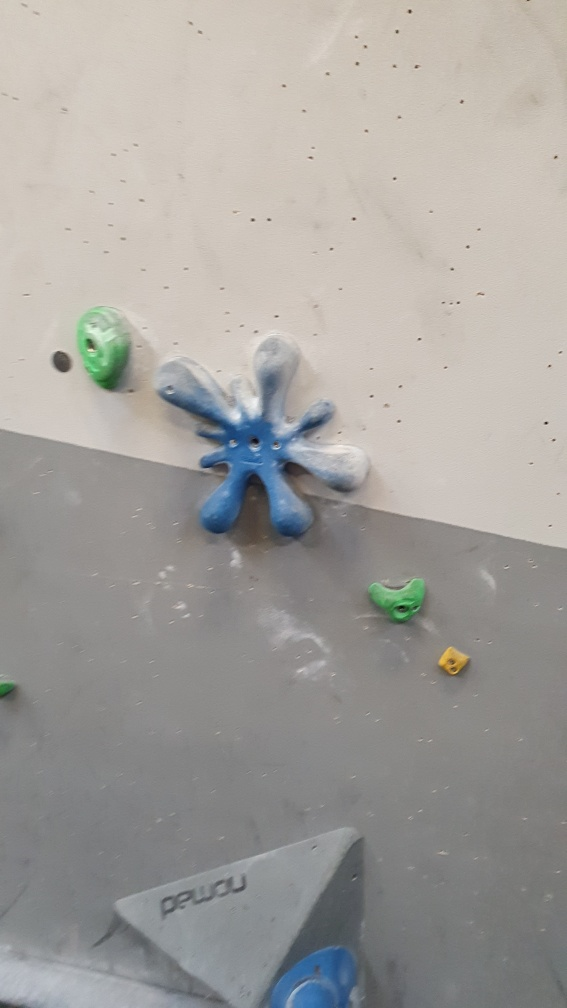Hand Start: (45, 344, 79, 379)
Jug: (75, 303, 142, 400), (364, 573, 427, 621)
Octopus Pinch: (157, 331, 375, 543)
